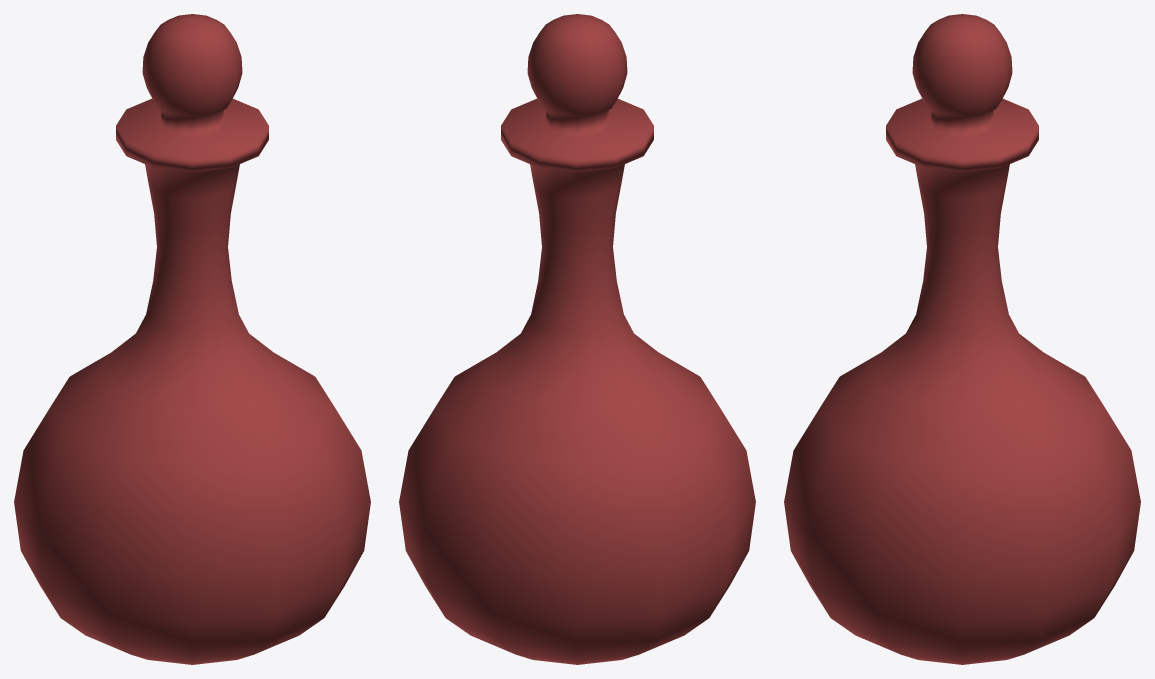
The model's file is round bottle.fbx.
3 renders of one model, left to right at view 1: azimuth 30°, elevation 25°; view 2: azimuth 150°, elevation 25°; view 3: azimuth 270°, elevation 25°, orthographic.
Parts seen in each view (by area): view 1: pCylinder7; view 2: pCylinder7; view 3: pCylinder7.
Part boxes in pixels (<box>): pCylinder7: <box>14,14,370,664</box>; pCylinder7: <box>399,14,755,664</box>; pCylinder7: <box>784,14,1140,664</box>.
Size of the model in its own units: 12.12 by 22.79 by 12.12.
